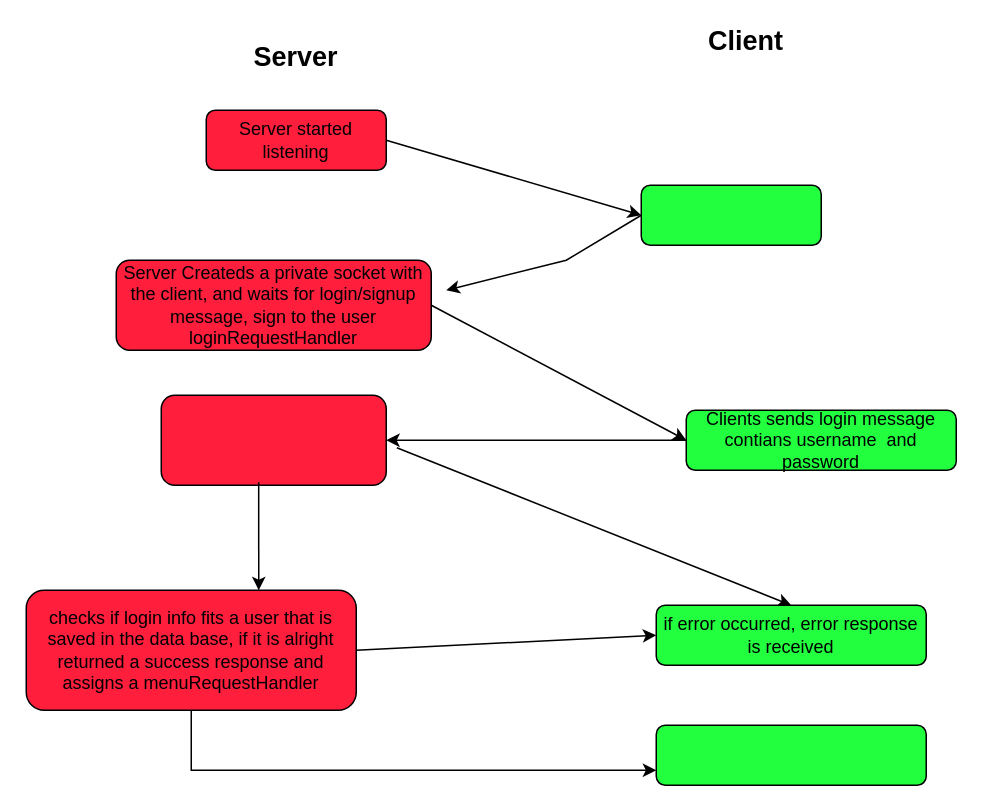
Image size: 983x812. Some labels were removed from this diagram. The centre of each missing label's shape, as x and y in pixels:
Client Connects: point 730,214
Server Deserialize this message, checks its relveance, and correction.: point 273,439
Success recieved, user is logged in: point 790,754
